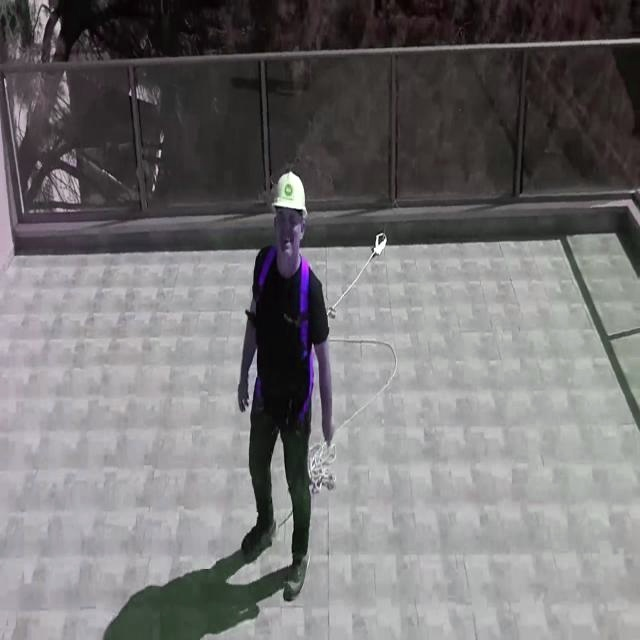safety belt: (233, 243, 324, 444)
